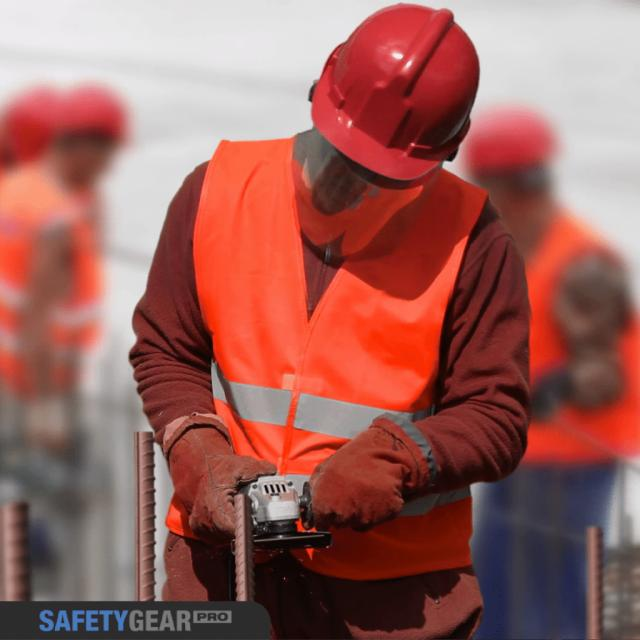Reflective-Jacket: (170, 146, 508, 548), (492, 194, 637, 473)
Safety-Helmet: (300, 3, 488, 178), (0, 62, 156, 170), (458, 89, 580, 186)
